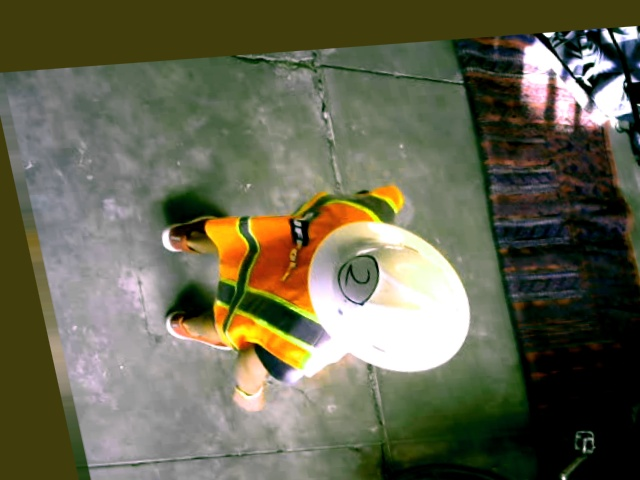two: (332, 253, 386, 306)
